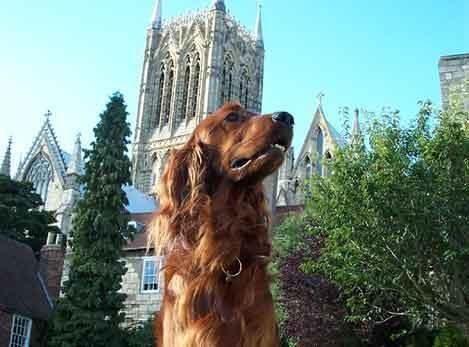Irish_setter: (143, 101, 294, 346)
